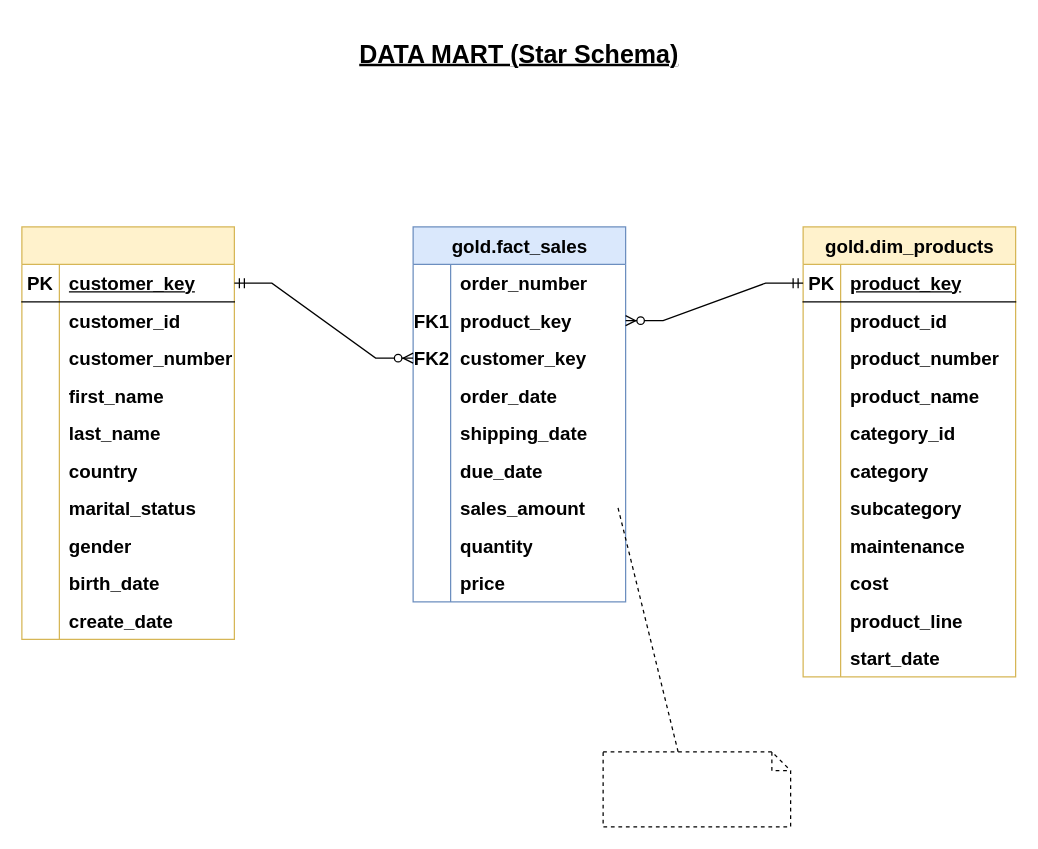
Image size: 1038x849. Some labels were removed from this diagram. Here are the shapes that lost their labels. From the top down, the box of each, then its label:
(21, 226, 234, 639): gold.dim_customers
(602, 751, 791, 827): Sales Calculation sales_amount = price * quantity
